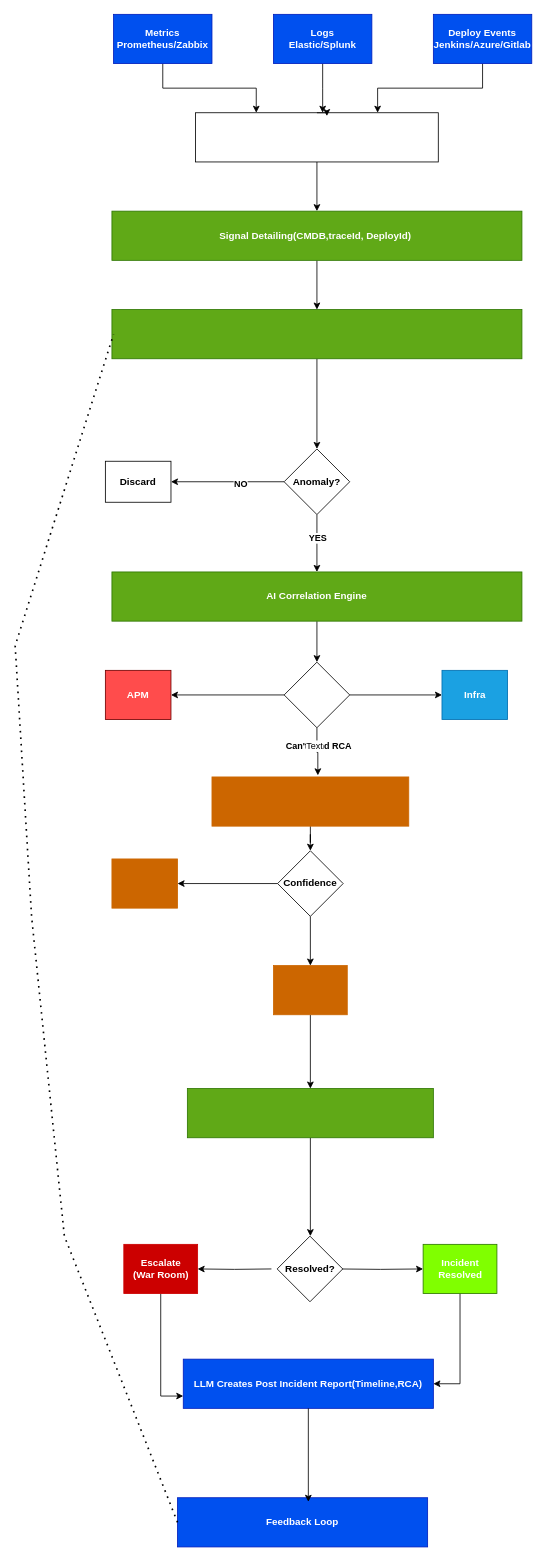
The diagram is 546 pixels wide and 1561 high, and some of its shapes have lost their labels. The centre of each missing label's shape, as x and y in pixels:
Action: the point at 310,990
Event Collector(Kafka/Rabbir MQ): the point at 316,137
Human Approval: the point at 144,883
Human Approval Required?: the point at 310,801
Machiene Learning Based Anomaly Detection: the point at 316,334
Root Cause Type: the point at 316,694
Verify Remediation: the point at 310,1113
